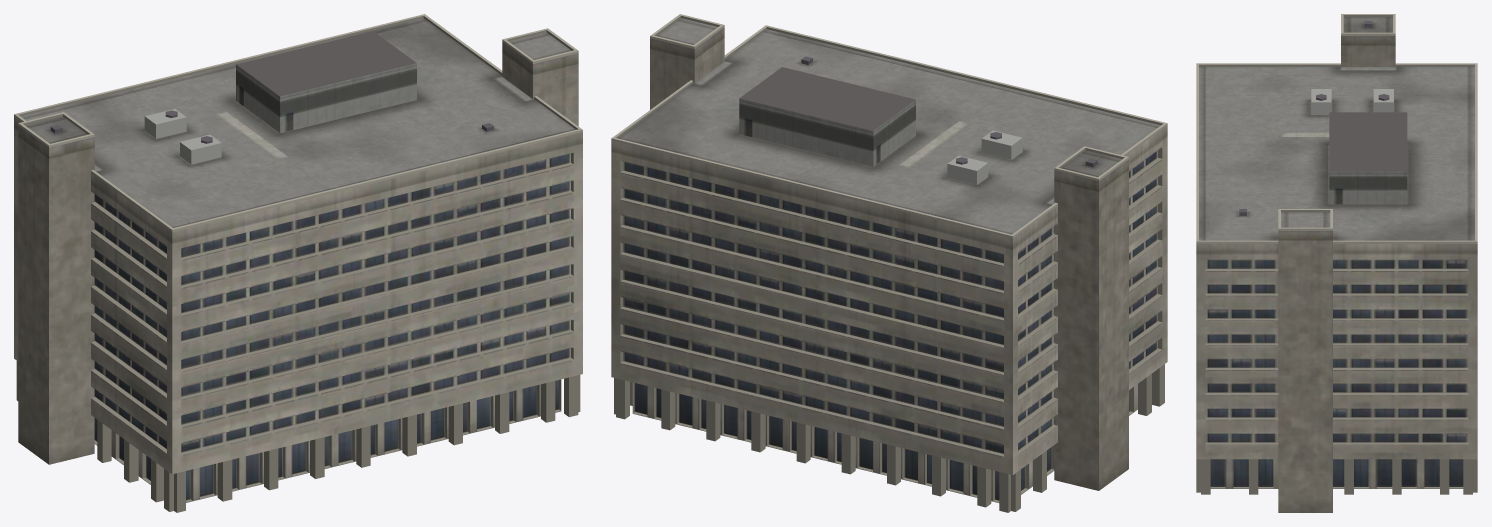
File: dc_brutal_c.glb
3 renders of one model, left to right at view 1: azimuth 30°, elevation 25°; view 2: azimuth 150°, elevation 25°; view 3: azimuth 270°, elevation 25°, orthographic. The views are drawn at different scales.
Parts seen in each view (by area): view 1: dc_brutal_c; view 2: dc_brutal_c; view 3: dc_brutal_c.
Part boxes in pixels (x1=…): dc_brutal_c: x1=14, y1=14, x2=582, y2=512; dc_brutal_c: x1=611, y1=14, x2=1167, y2=512; dc_brutal_c: x1=1196, y1=14, x2=1477, y2=512.
Bounding box in the file's own units: 65 × 40.3 × 36.
1 material, 1 textured.
